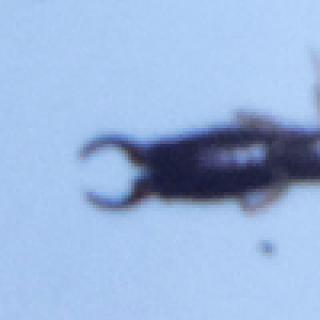earwig: (61, 106, 320, 220)
